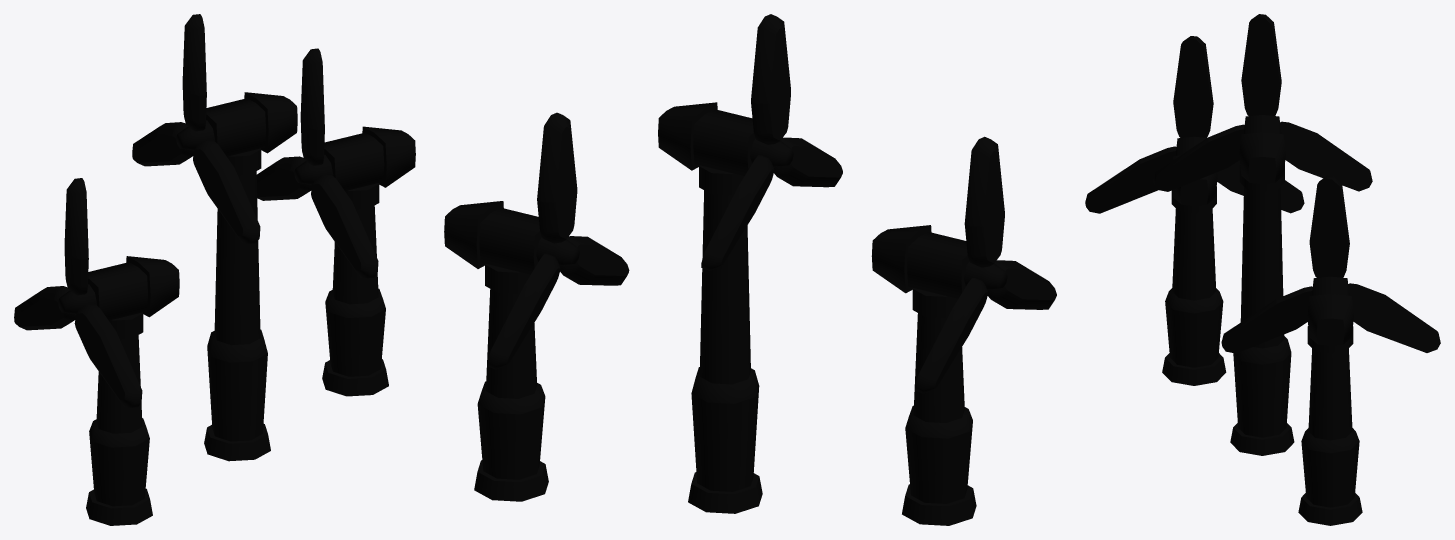
The model's file is wind-farm.glb.
3 views of the same model, side by side, from view 1: azimuth 30°, elevation 25°; view 2: azimuth 150°, elevation 25°; view 3: azimuth 270°, elevation 25° (orthographic). The views are drawn at different scales.
Parts seen in each view (by area): view 1: windmill; view 2: windmill; view 3: windmill.
Boxes of the visible parts, box(x1,y1,x2,y2) form: windmill: box(14, 14, 415, 525); windmill: box(444, 14, 1056, 525); windmill: box(1085, 14, 1440, 525).
Bounding box in the file's own units: 2.3 × 2.31 × 1.83.
Materials: 1 (1 with a texture image).
